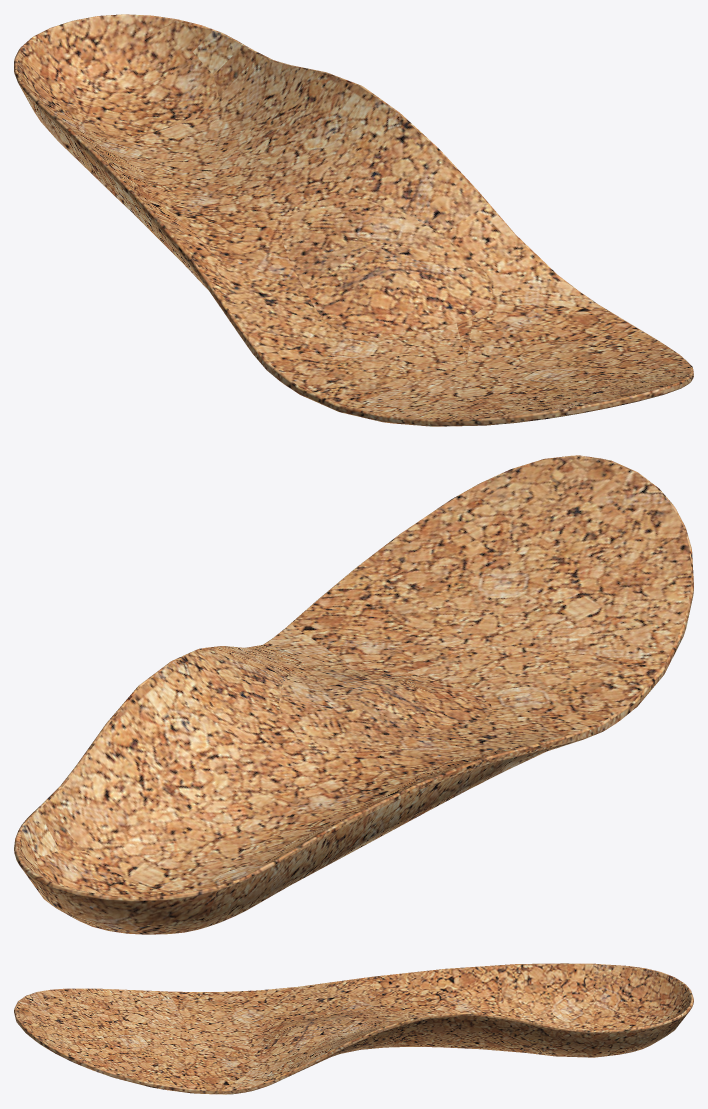
The picture shows the model from 3 angles, top to bottom: view 1: azimuth 30°, elevation 25°; view 2: azimuth 150°, elevation 25°; view 3: azimuth 270°, elevation 25°; orthographic projection. The views are drawn at different scales.
Visible parts, largest first — view 1: ENV; view 2: ENV; view 3: ENV.
Part boxes in pixels (bbox=[...]): ENV: bbox=[14, 14, 693, 426]; ENV: bbox=[14, 455, 693, 934]; ENV: bbox=[14, 963, 693, 1094].
Bounding box in the file's own units: 0.01 × 0.00311 × 0.029.
